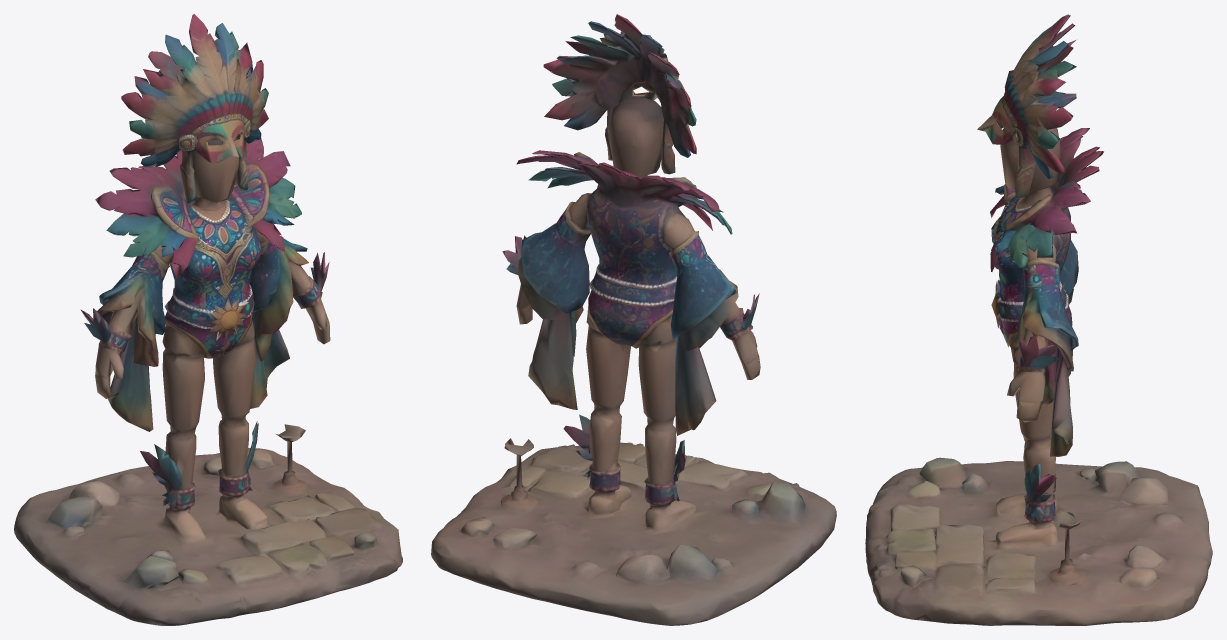
The model's file is carnival_workshop_mannequin.glb.
3 renders of one model, left to right at view 1: azimuth 30°, elevation 25°; view 2: azimuth 150°, elevation 25°; view 3: azimuth 270°, elevation 25°, orthographic. The views are drawn at different scales.
Visible parts, largest first — view 1: tripo_node_7b9b04e2-5a9d-46a9-8d0d-d5cc53ff473b; view 2: tripo_node_7b9b04e2-5a9d-46a9-8d0d-d5cc53ff473b; view 3: tripo_node_7b9b04e2-5a9d-46a9-8d0d-d5cc53ff473b.
Boxes of the visible parts, x1=… form: tripo_node_7b9b04e2-5a9d-46a9-8d0d-d5cc53ff473b: x1=14, y1=14, x2=402, y2=625; tripo_node_7b9b04e2-5a9d-46a9-8d0d-d5cc53ff473b: x1=431, y1=14, x2=836, y2=625; tripo_node_7b9b04e2-5a9d-46a9-8d0d-d5cc53ff473b: x1=865, y1=14, x2=1212, y2=625.
Bounding box in the file's own units: 0.598 × 1 × 0.5842.
1 material, 1 textured.
